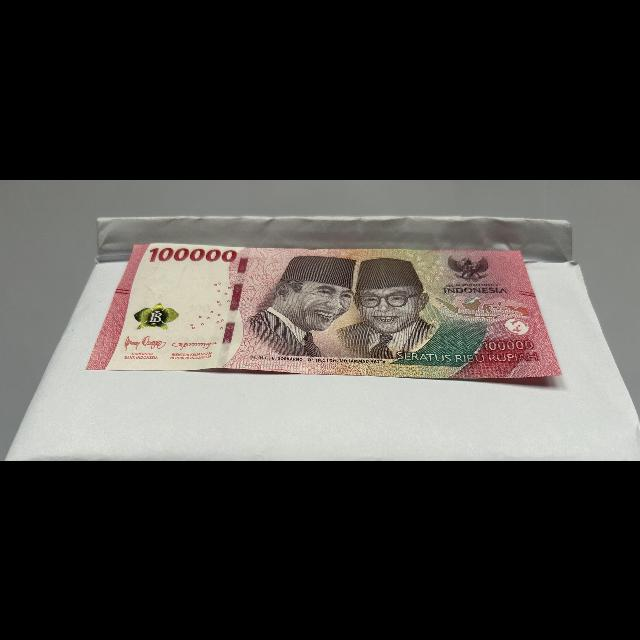Asli-100k: (81, 239, 569, 383)
Tinta-Asli-100k: (129, 299, 183, 332)
